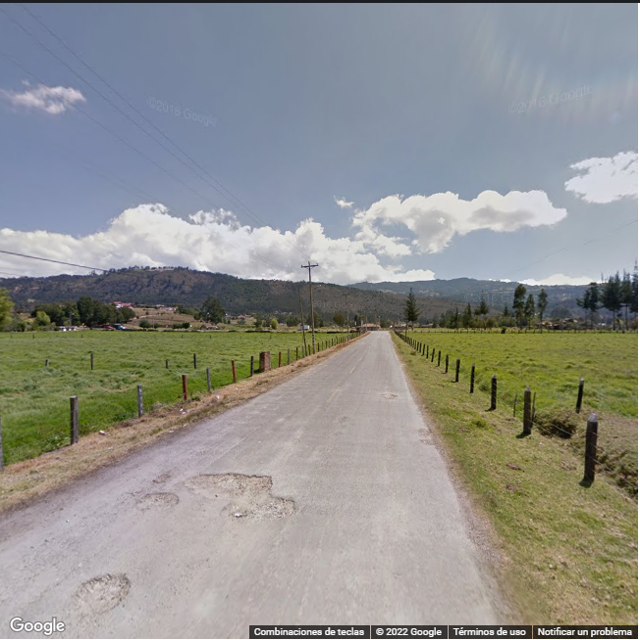D40: (193, 469, 288, 526), (73, 570, 131, 615), (139, 488, 173, 511)
